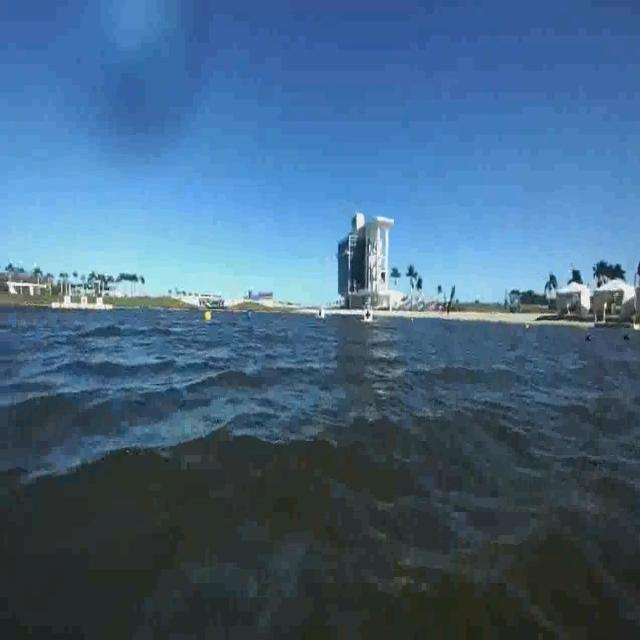yellow-buoy: (204, 310, 213, 323)
